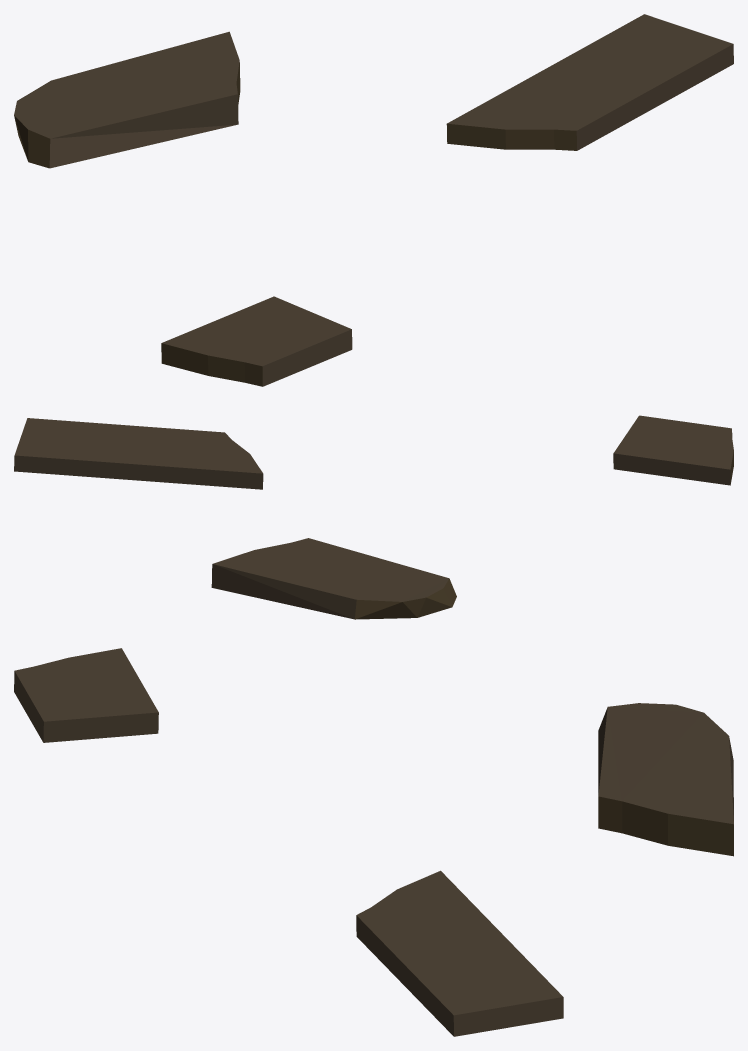
File: ADDON_DUNGEON_BROKENSTONE_03.OBJ
3 renders of one model, top to bottom at view 1: azimuth 30°, elevation 25°; view 2: azimuth 150°, elevation 25°; view 3: azimuth 270°, elevation 25°, orthographic. The views are drawn at different scales.
Visible parts, largest first — view 1: ADDON_DUNGEON_BROKENSTONE_03; view 2: ADDON_DUNGEON_BROKENSTONE_03; view 3: ADDON_DUNGEON_BROKENSTONE_03.
Boxes of the visible parts, x1=… form: ADDON_DUNGEON_BROKENSTONE_03: x1=14, y1=14, x2=733, y2=386; ADDON_DUNGEON_BROKENSTONE_03: x1=14, y1=415, x2=733, y2=619; ADDON_DUNGEON_BROKENSTONE_03: x1=14, y1=648, x2=733, y2=1036.
Size of the model in its own units: 4.09 by 0.1682 by 3.35.
